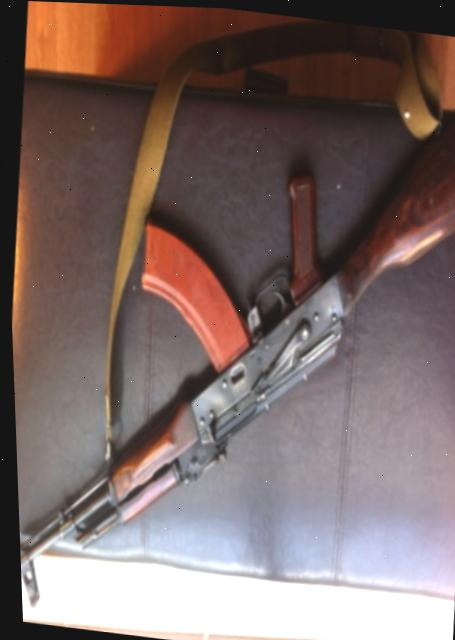rifle: (1, 46, 455, 640)
